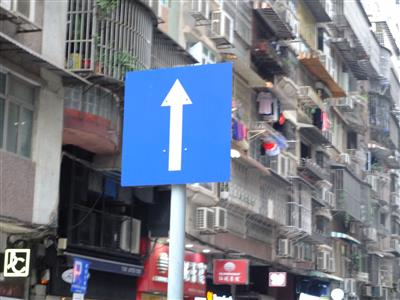oneway: (110, 53, 243, 199)
